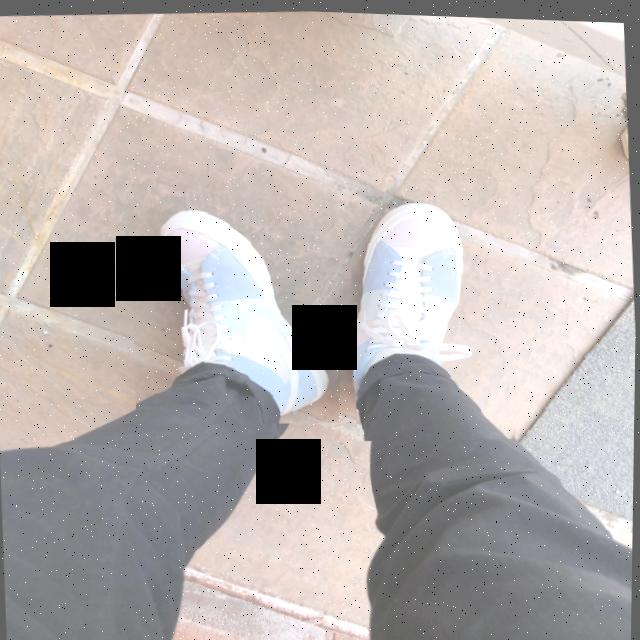shoe: (126, 185, 357, 431), (346, 181, 527, 443)
